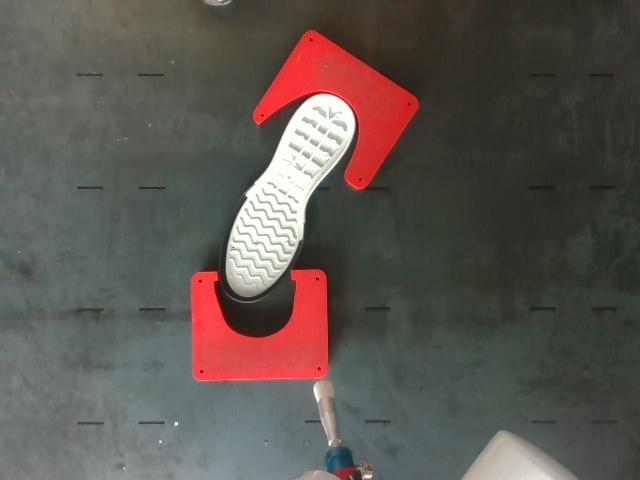shoes: (220, 95, 353, 302)
